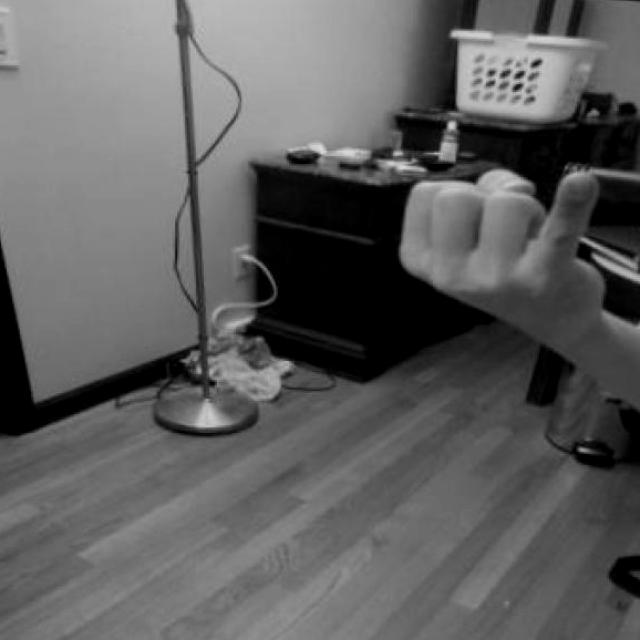J: (394, 164, 617, 363)
